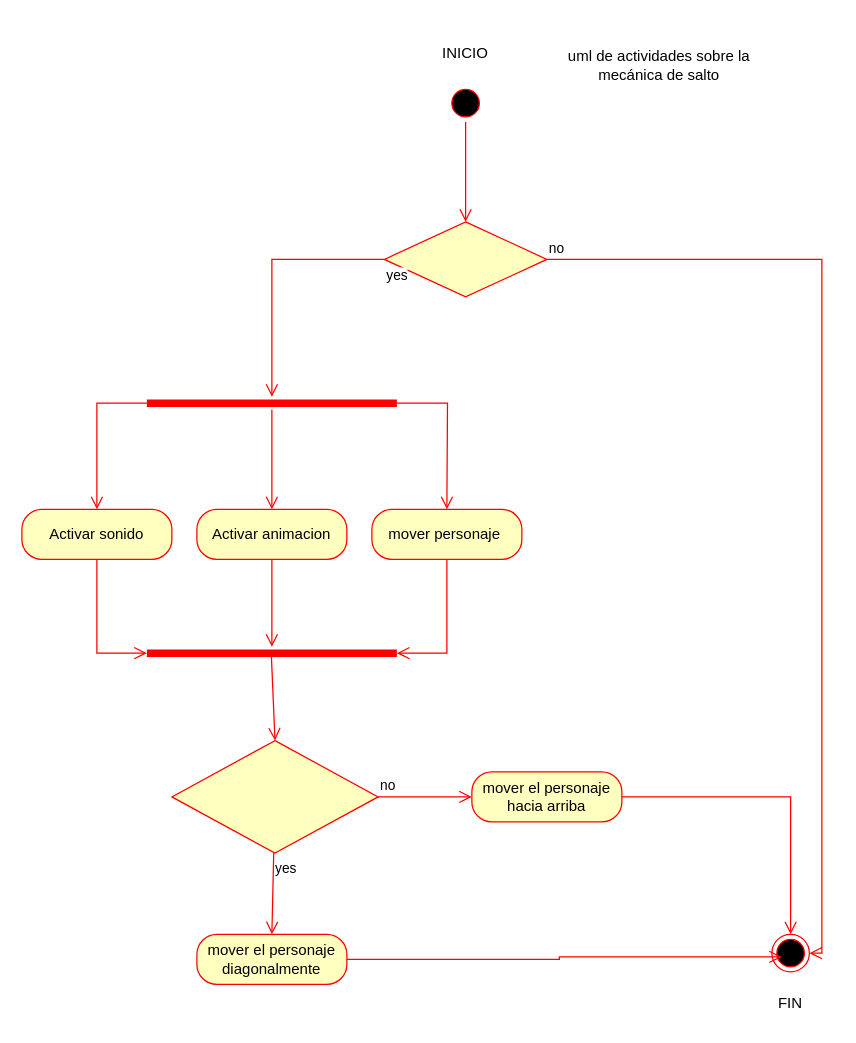
Image size: 856x1043. Some labels were removed from this diagram. Here are the shapes that lost their labels. From the top down, the box of each, then its label:
(383, 221, 547, 297): ¿Tecla 'ESPACIO' pulsada?
(171, 739, 378, 853): ¿tecla 'IZQUIERDA/DERECHA' pulsada?
